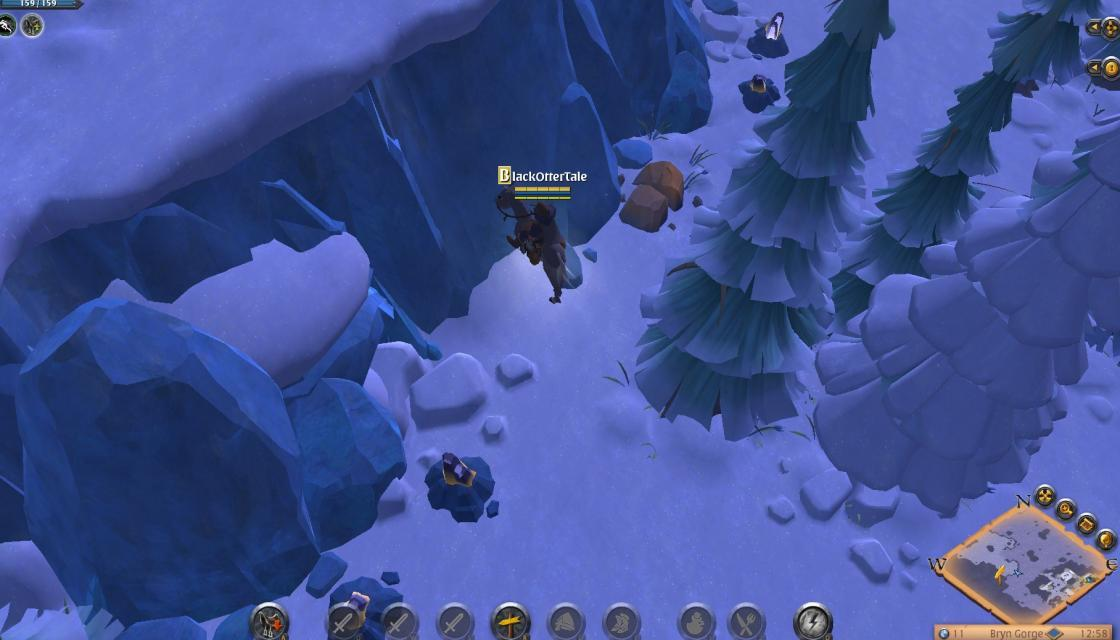copperore: (422, 449, 501, 522), (324, 578, 394, 640), (749, 7, 794, 59), (737, 70, 779, 112)
limestone: (612, 159, 688, 230)
